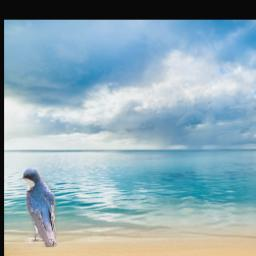Swallow: (22, 168, 57, 248)
